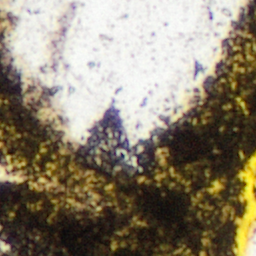cement_matrix: (0, 0, 255, 255), (34, 178, 53, 187), (212, 183, 219, 190)
cracks: (233, 152, 255, 255)
gravel_crushed_stones: (0, 0, 250, 165), (0, 160, 24, 182), (244, 227, 255, 255), (35, 179, 52, 186), (0, 241, 7, 251), (213, 184, 218, 189)
